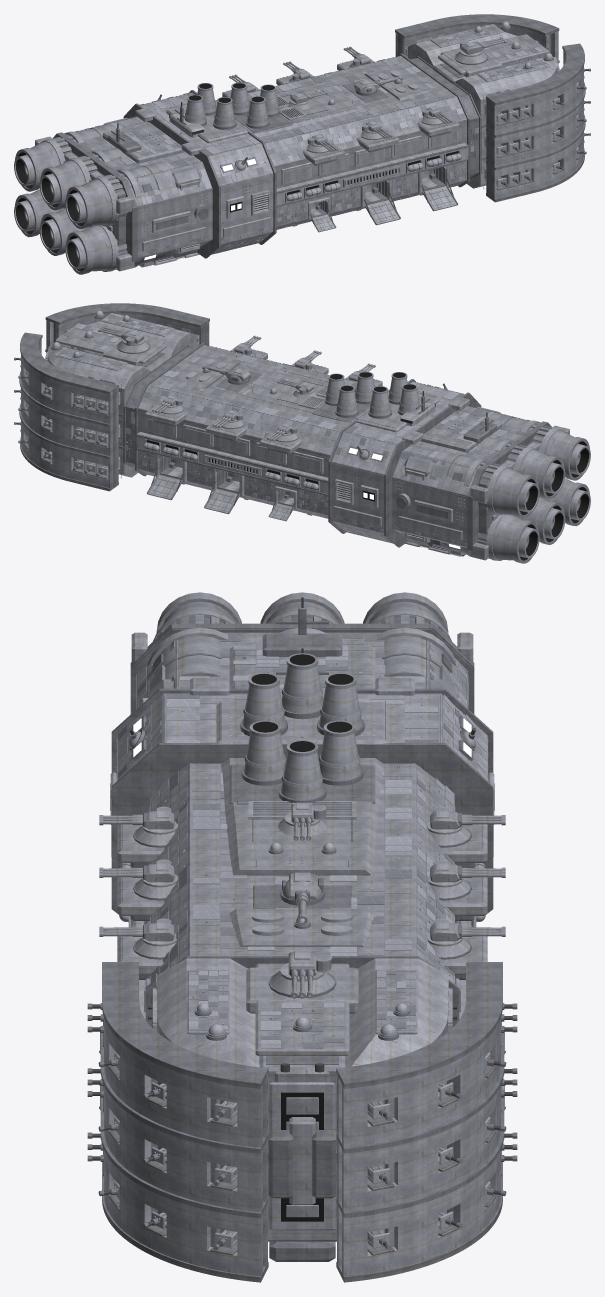
3 views of the same model, one above another, from view 1: azimuth 30°, elevation 25°; view 2: azimuth 150°, elevation 25°; view 3: azimuth 270°, elevation 25° (orthographic). The views are drawn at different scales.
Visible parts, largest first — view 1: hull_mid_mid, hull_mid, hull_light, shields_plate_light, shields_plate_dark, hull_dark, superstructure_mid, engines.thruster.004, bow_mid, bow_block_light, engines.thruster.005, engines.thruster.002 (+29 smaller); view 2: hull_mid_mid, hull_mid, hull_light, shields_plate_light, shields_plate_dark, hull_dark, superstructure_mid, engines.thruster.002, bow_mid, bow_block_light, engines.thruster.003, engines.thruster.004 (+29 smaller); view 3: shields_plate_light, hull_mid_mid, shields_plate_dark, superstructure_mid, bow_mid, hull_dark, bow_block_light, hull_light, weapons_mid, engines.thruster.004, engines.thruster.002, bow_dark (+24 smaller).
Part boxes in pixels (x1,y1,x2,y2): hull_mid_mid: [215, 56, 466, 229]; hull_mid: [65, 117, 460, 267]; hull_light: [140, 92, 468, 265]; shields_plate_light: [395, 31, 583, 199]; shields_plate_dark: [395, 14, 585, 202]; hull_dark: [63, 53, 481, 259]; superstructure_mid: [102, 67, 432, 163]; engines.thruster.004: [65, 161, 200, 228]; bow_mid: [430, 24, 550, 83]; bow_block_light: [408, 32, 557, 188]; engines.thruster.005: [65, 225, 200, 274]; engines.thruster.002: [14, 118, 127, 191]; hull_mid_mid: [138, 345, 389, 518]; hull_mid: [144, 406, 539, 556]; hull_light: [136, 381, 464, 554]; shields_plate_light: [21, 319, 209, 488]; shields_plate_dark: [19, 303, 209, 491]; hull_dark: [123, 342, 541, 548]; superstructure_mid: [172, 356, 502, 452]; engines.thruster.002: [404, 450, 539, 517]; bow_mid: [54, 313, 174, 372]; bow_block_light: [47, 321, 196, 477]; engines.thruster.003: [404, 514, 539, 563]; engines.thruster.004: [477, 407, 590, 480]; shields_plate_light: [104, 1018, 500, 1278]; hull_mid_mid: [150, 763, 454, 983]; shields_plate_dark: [100, 962, 504, 1282]; superstructure_mid: [190, 645, 414, 946]; bow_mid: [187, 963, 417, 1241]; hull_dark: [111, 629, 493, 1025]; bow_block_light: [157, 958, 447, 1233]; hull_light: [110, 693, 494, 1019]; weapons_mid: [117, 824, 487, 974]; engines.thruster.004: [143, 592, 241, 702]; engines.thruster.002: [363, 592, 461, 702]; bow_dark: [266, 1056, 338, 1261].
Bounding box in the file's own units: 998 × 255 × 355.
7 materials, 4 textured.
